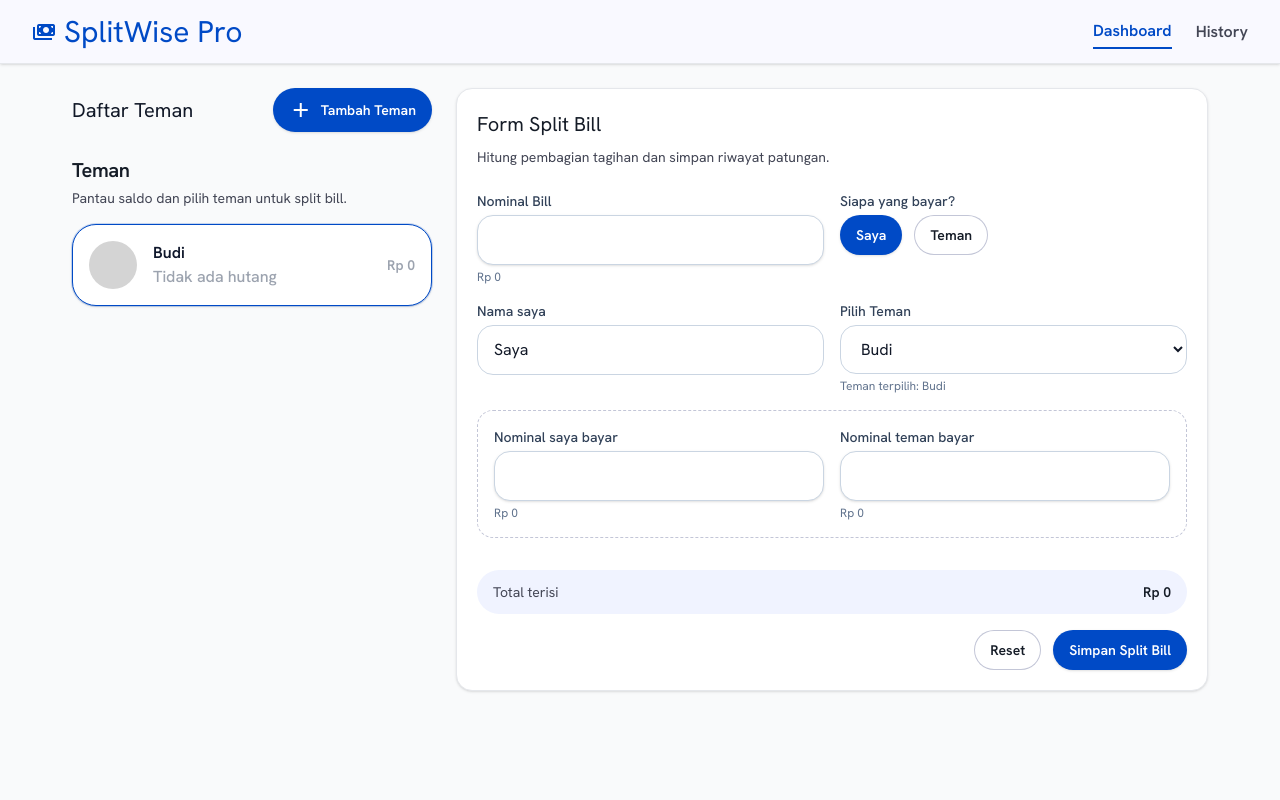
Test: Dashboard integration › rejects invalid split bill and keeps state unchanged
The image size is (1280, 800).
Clear the field labelled "Nama saya" at [650, 350], box [477,325,824,375]
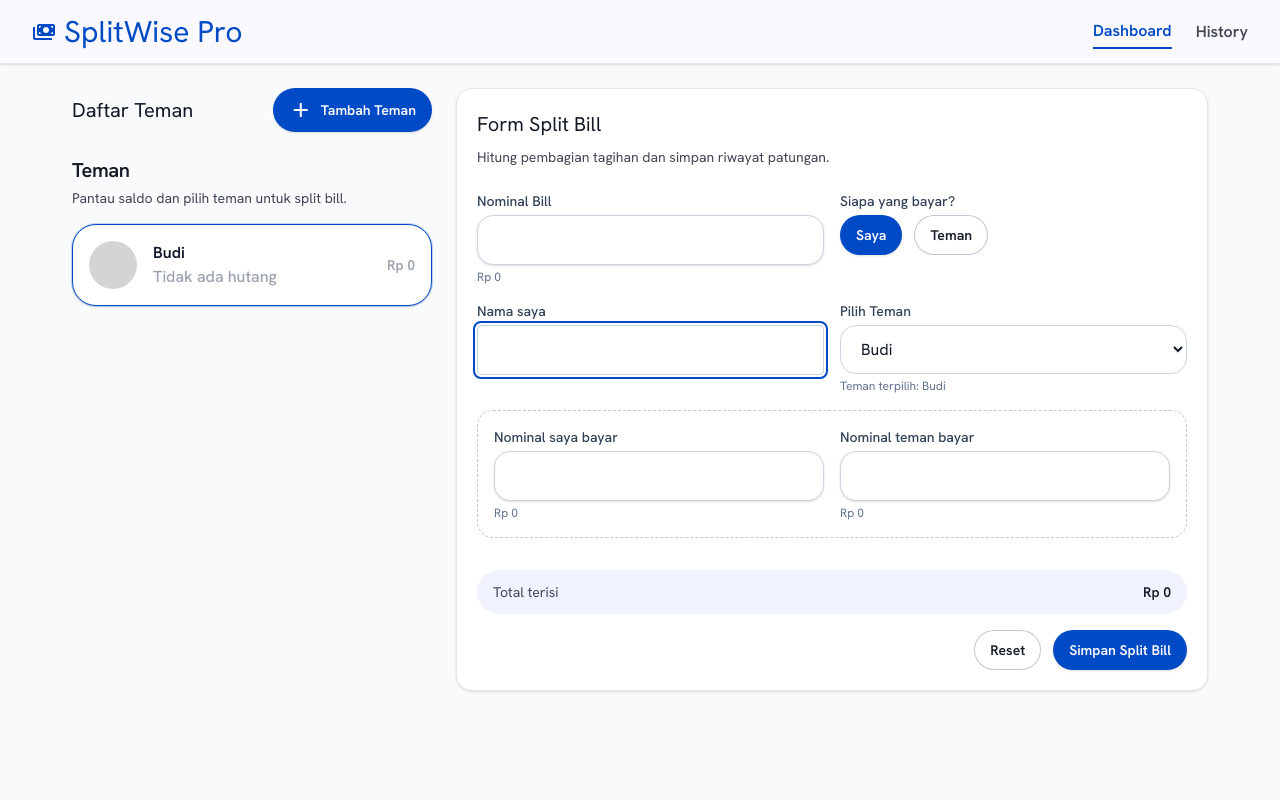
Click the button "Simpan Split Bill" at [1120, 650], box [1053,630,1187,670]
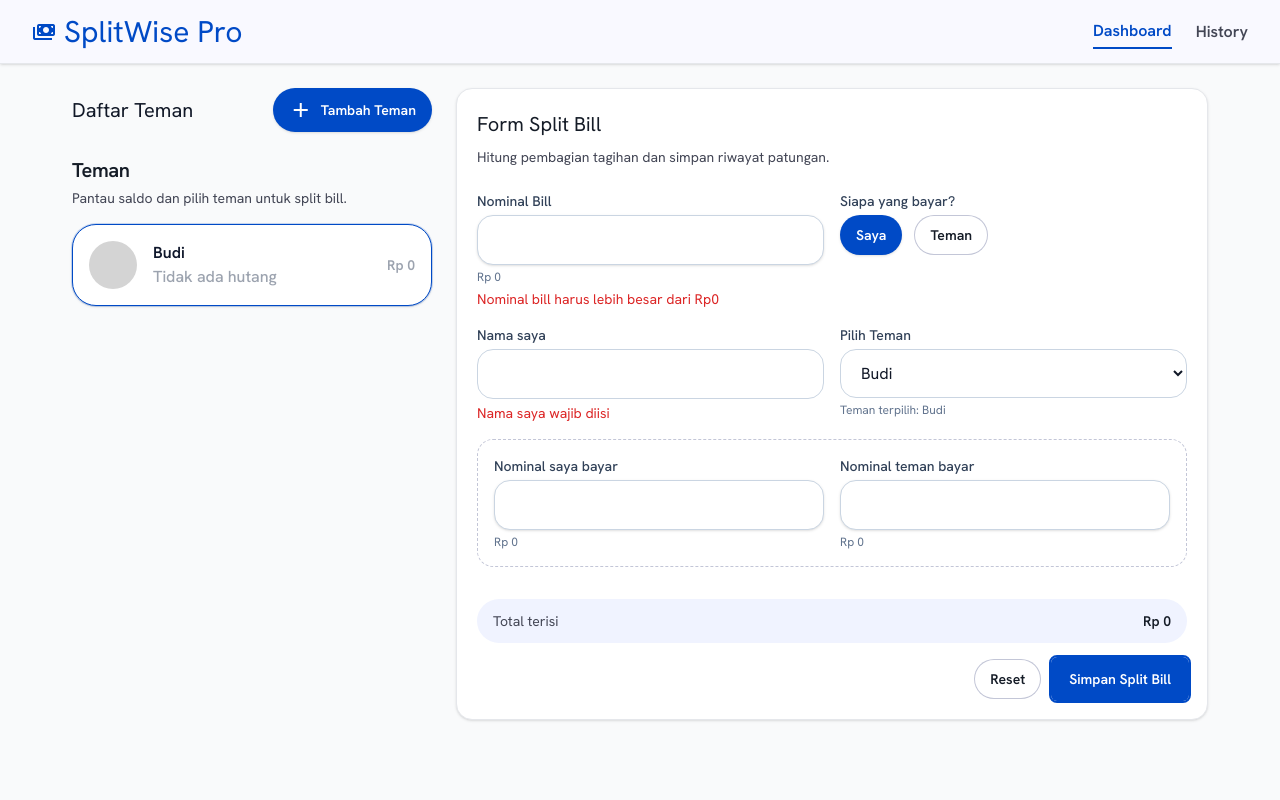
Check: the text "Nama saya wajib diisi" is shown, box [477,404,610,422]
